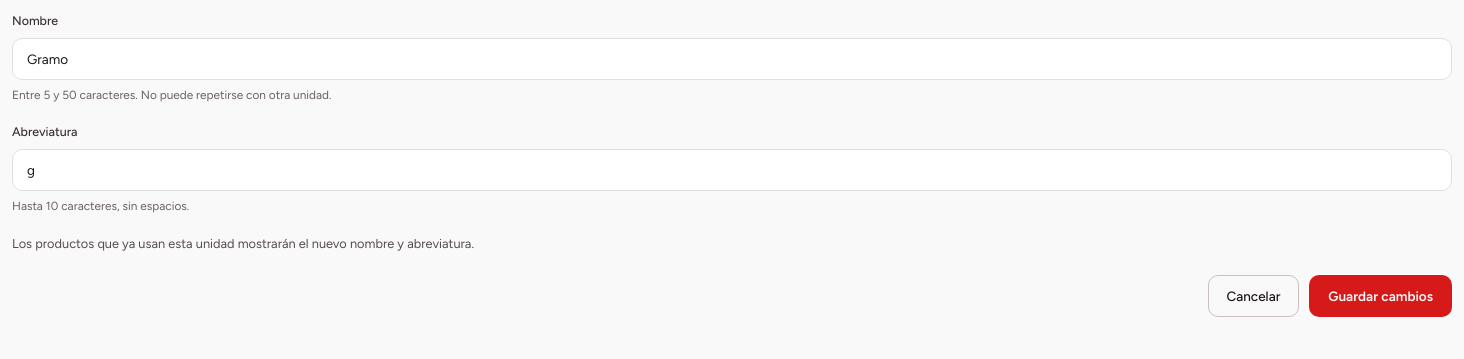
Scenario: EditUnitForm › shows the conflict "Unit measure abreviation already exists" on its field
Replace the text in the field labelled "Nombre" with "Gramos": (732, 59) [12,38,1452,80]
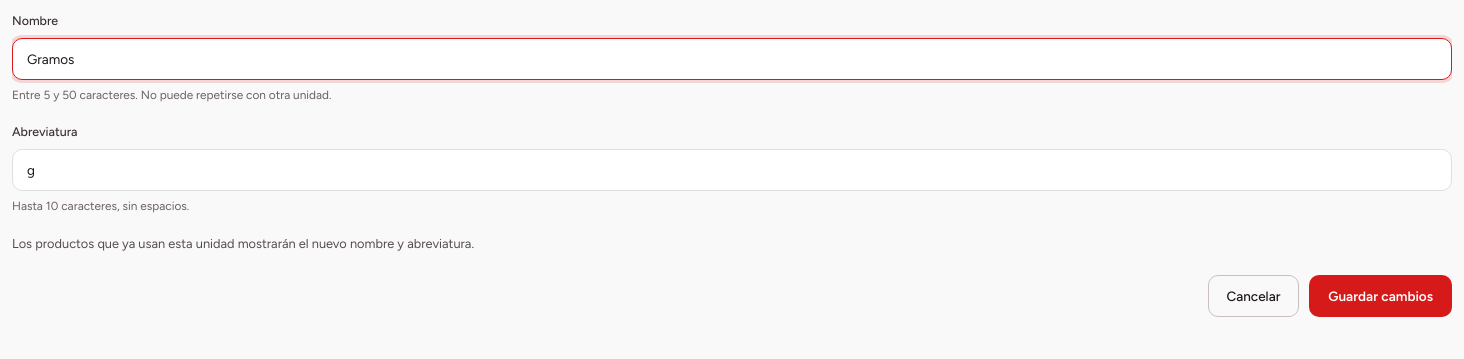
Replace the text in the field labelled "Abreviatura" with "grs": (732, 170) [12,149,1452,191]
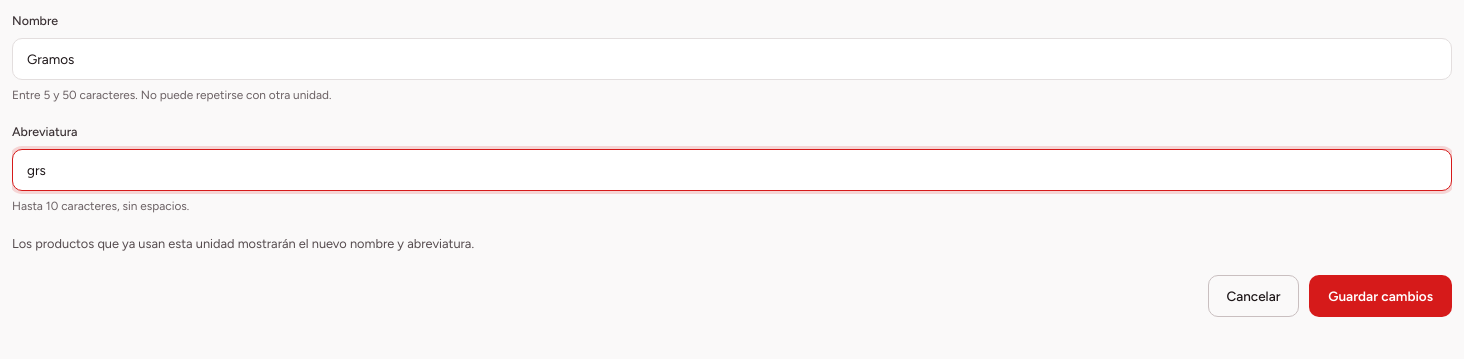
Click the button "Guardar cambios": (1381, 296) [1309,275,1452,317]
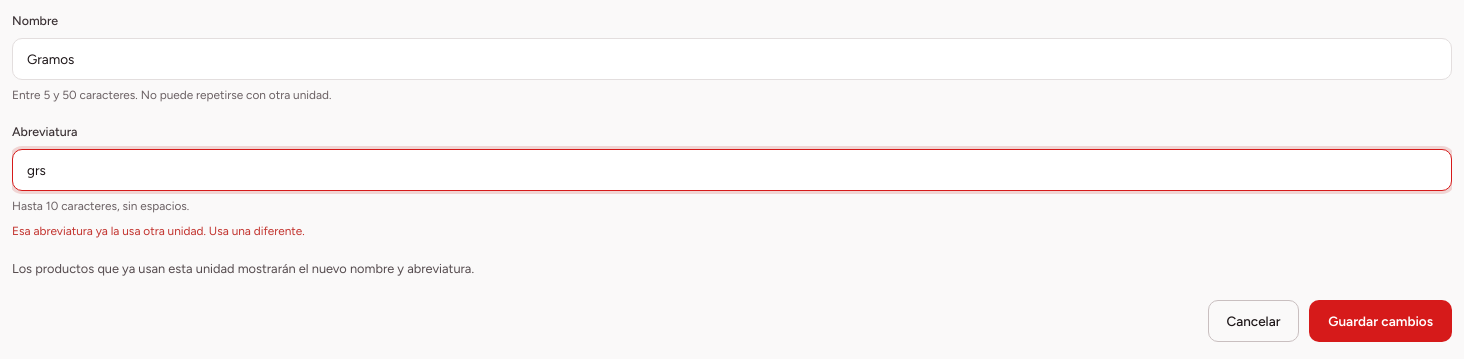
Result: the text "Esa abreviatura ya la usa otra unidad. Usa una diferente." is shown at [12,224,305,238]
